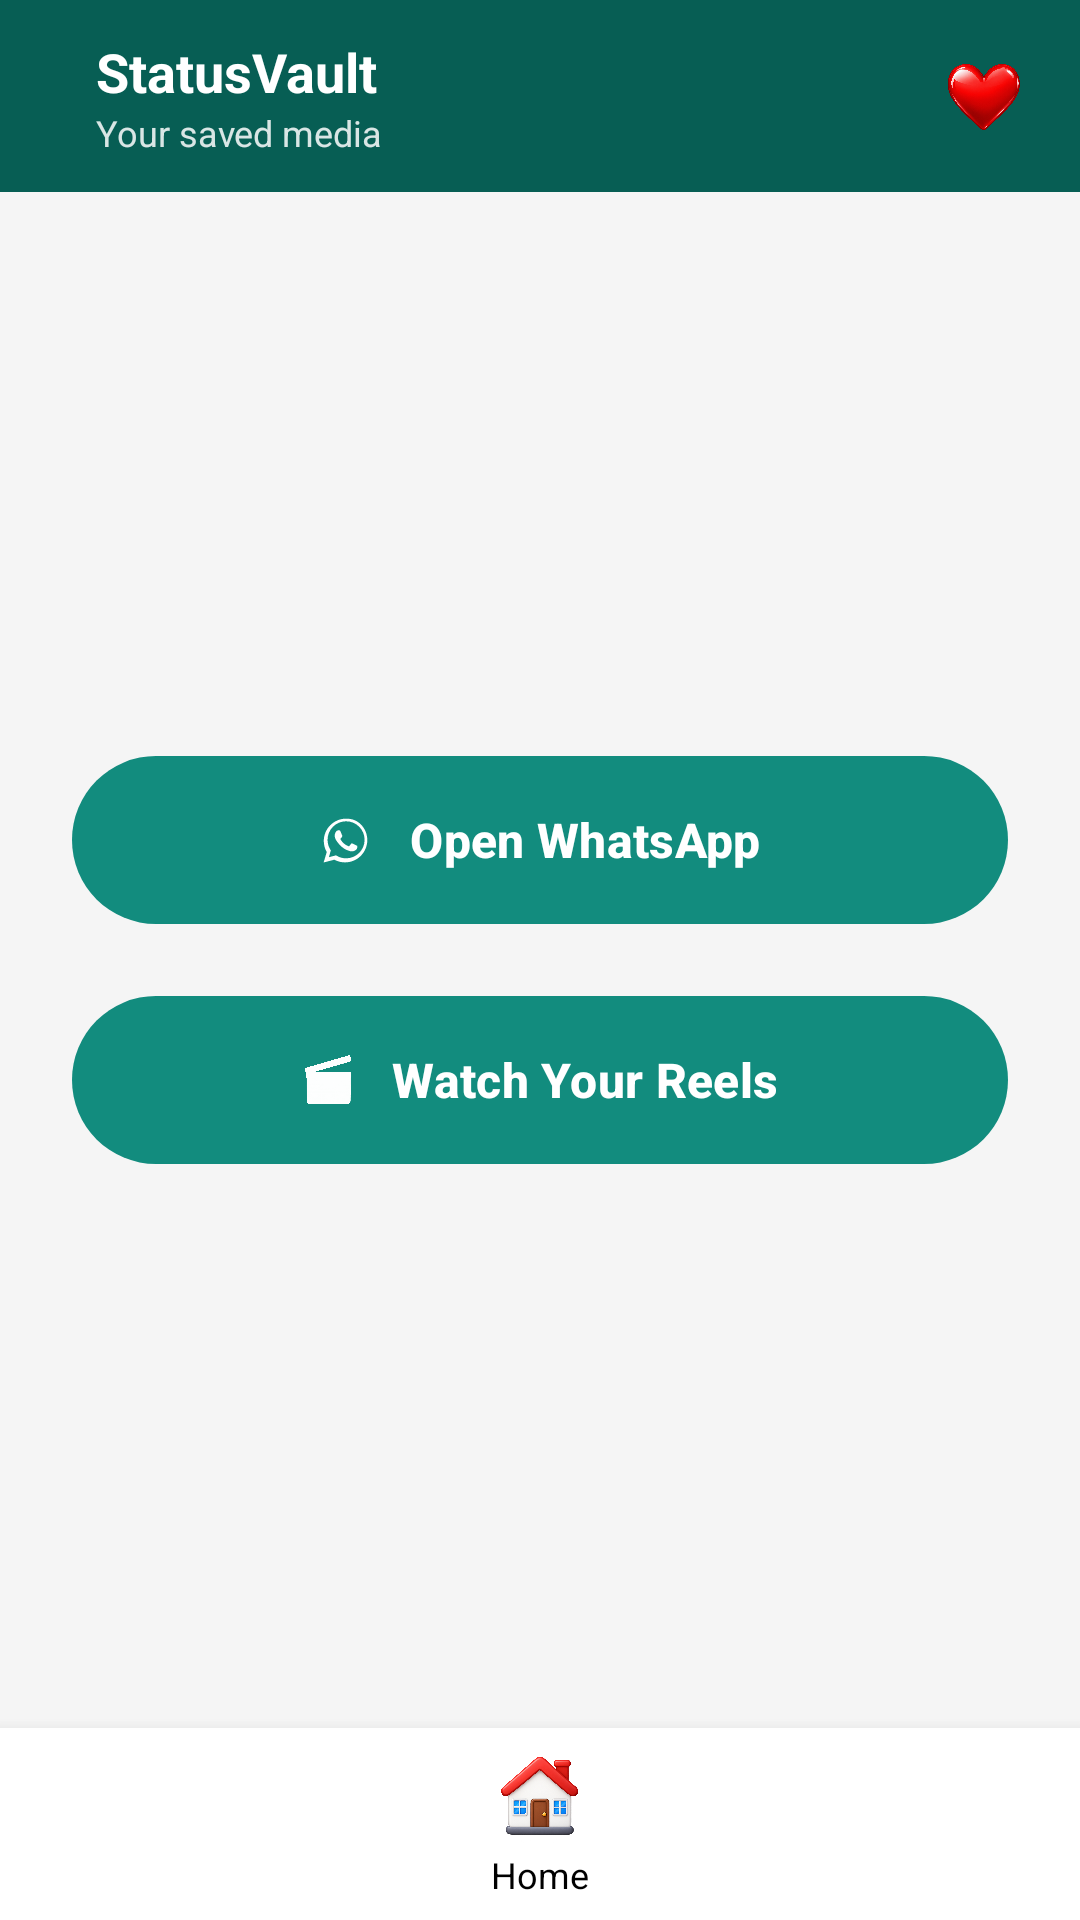

Where icons sit on this 1080x1920 app screen, as (x1,y1,x2,y2):
Favorites: (948,64,1020,130)
